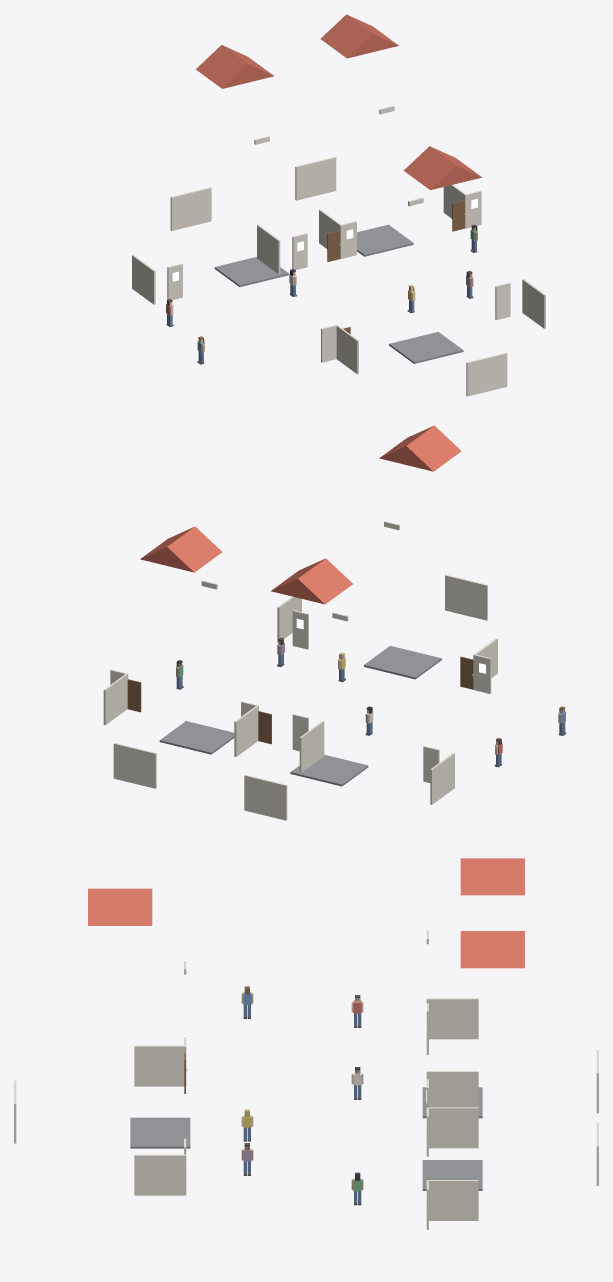
3 renders of one model, top to bottom at view 1: azimuth 30°, elevation 25°; view 2: azimuth 150°, elevation 25°; view 3: azimuth 270°, elevation 25°, orthographic. The views are drawn at different scales.
Visible parts, largest first — view 1: House_Roof, House2_Roof, House3_Roof, House3_WallBack, House_WallBack, House2_WallBack, House3_Floor, House_Floor, House2_Floor, House3_WallLeft, House_WallLeft, House2_WallLeft (+6 smaller); view 2: House_Roof, House2_Roof, House3_Roof, House2_WallBack, House_WallBack, House3_WallBack, House3_Floor, House2_Floor, House_Floor, House2_WallLeft, House2_WallRight, House_WallRight (+4 smaller); view 3: House2_Roof, House3_Roof, House_Roof, House3_WallLeft, House3_WallRight, House_WallLeft, House_WallRight, House2_WallRight, House3_Floor, House2_WallLeft, House2_Floor.
Boxes of the visible parts, <box> form: House_Roof: <box>195,45,273,88</box>; House2_Roof: <box>320,14,398,58</box>; House3_Roof: <box>403,146,482,189</box>; House3_WallBack: <box>466,352,507,396</box>; House_WallBack: <box>170,187,211,230</box>; House2_WallBack: <box>295,157,336,200</box>; House3_Floor: <box>389,332,463,363</box>; House_Floor: <box>214,257,288,286</box>; House2_Floor: <box>357,224,413,256</box>; House3_WallLeft: <box>522,279,545,328</box>; House_WallLeft: <box>132,255,155,304</box>; House2_WallLeft: <box>257,224,280,274</box>; House_Roof: <box>271,558,352,604</box>; House2_Roof: <box>140,526,222,572</box>; House3_Roof: <box>379,425,461,471</box>; House2_WallBack: <box>113,743,156,788</box>; House_WallBack: <box>244,775,287,820</box>; House3_WallBack: <box>445,574,487,620</box>; House3_Floor: <box>364,645,441,679</box>; House2_Floor: <box>159,721,234,754</box>; House_Floor: <box>290,754,368,786</box>; House2_WallLeft: <box>299,721,324,772</box>; House2_WallRight: <box>103,673,128,725</box>; House_WallRight: <box>234,705,258,756</box>; House2_Roof: <box>460,931,524,968</box>; House3_Roof: <box>88,888,152,925</box>; House_Roof: <box>460,858,524,895</box>; House3_WallLeft: <box>134,1154,186,1195</box>; House3_WallRight: <box>134,1045,186,1086</box>; House_WallLeft: <box>426,998,478,1039</box>; House_WallRight: <box>426,1107,478,1148</box>; House2_WallRight: <box>426,1180,478,1220</box>; House3_Floor: <box>130,1117,190,1148</box>; House2_WallLeft: <box>426,1071,478,1107</box>; House2_Floor: <box>422,1160,482,1190</box>.
Bounding box in the file's own units: 36.01 × 13.52 × 29.2.
